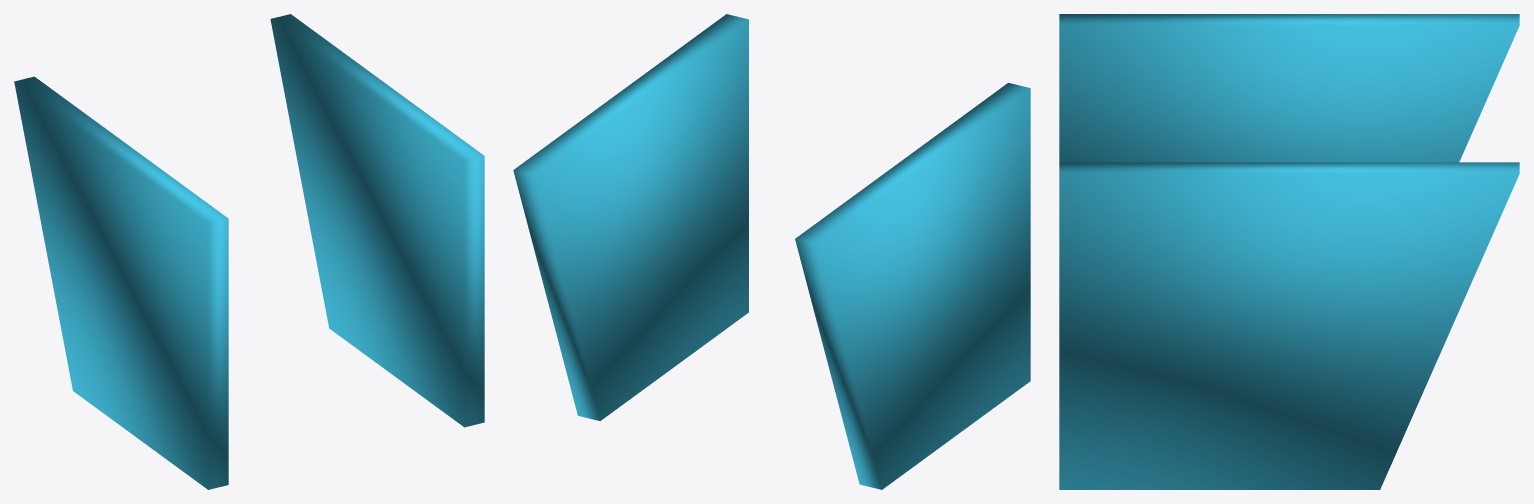
File: glass4.fbx
The picture shows the model from 3 angles, left to right: view 1: azimuth 30°, elevation 25°; view 2: azimuth 150°, elevation 25°; view 3: azimuth 270°, elevation 25°; orthographic projection. The views are drawn at different scales.
Visible parts, largest first — view 1: Plane_170; view 2: Plane_170; view 3: Plane_170.
Boxes of the visible parts, left/top/right/bottom form: Plane_170: left=14, top=14, right=484, bottom=489; Plane_170: left=513, top=14, right=1030, bottom=489; Plane_170: left=1059, top=14, right=1519, bottom=489.
Bounding box in the file's own units: 5.43 × 5 × 6.6.
1 material, 1 textured.
